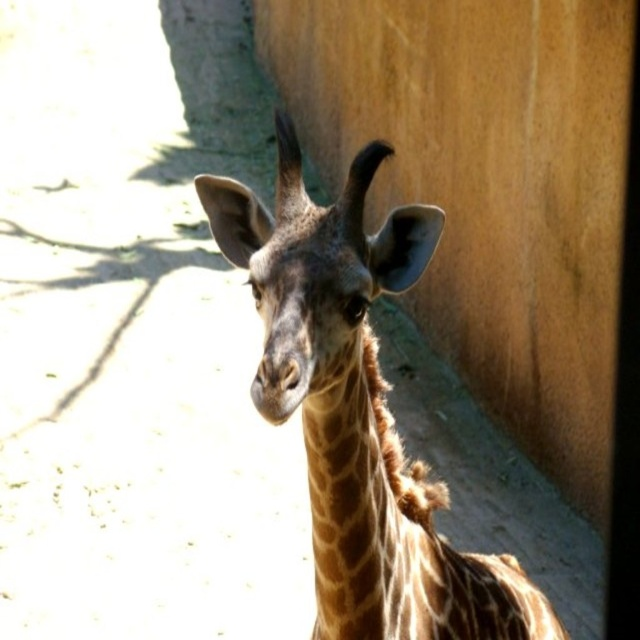Giraffe: (172, 127, 577, 640)
